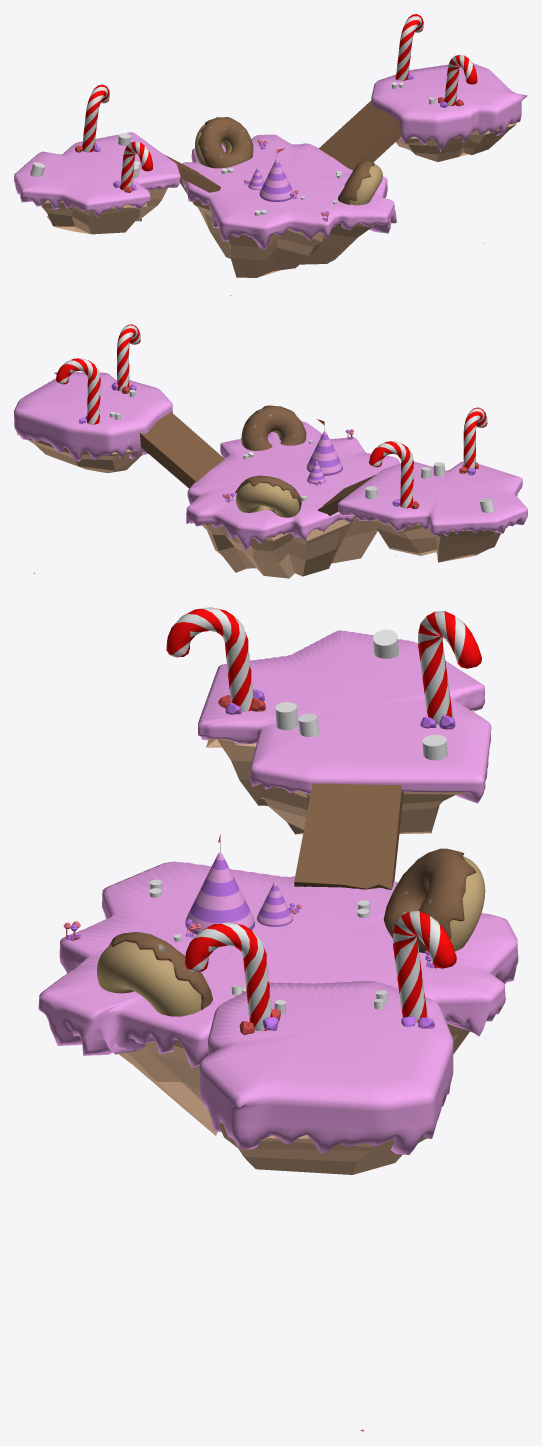
File: SugarIsland_04_07_24.glb
3 renders of one model, top to bottom at view 1: azimuth 30°, elevation 25°; view 2: azimuth 150°, elevation 25°; view 3: azimuth 270°, elevation 25°, orthographic. The views are drawn at different scales.
Parts seen in each view (by area): view 1: Icing.Middle, Icing.Right, Icing.Left, Land.Middle, Canes, Choco.Bridge.Right, Land.Left, Torus.002, Land.Right, Torus.004, Cone.B, Choco.Bridge.Left; view 2: Icing.Middle, Icing.Left, Icing.Right, Land.Middle, Canes, Choco.Bridge.Right, Land.Left, Torus.004, Torus.002, Land.Right, Cone.B, Choco.Bridge.Left; view 3: Icing.Middle, Icing.Right, Icing.Left, Canes, Choco.Bridge.Left, Torus.002, Torus.004, Land.Left, Land.Right, Land.Middle, Cone.B, Cone.s.
Boxes of the visible parts, x1,y1,x2,y2 form: Icing.Middle: (182, 134, 396, 249); Icing.Right: (371, 63, 527, 151); Icing.Left: (14, 132, 180, 217); Land.Middle: (180, 178, 374, 277); Canes: (82, 14, 477, 190); Choco.Bridge.Right: (318, 100, 401, 170); Land.Left: (41, 187, 167, 234); Torus.002: (195, 117, 253, 168); Land.Right: (395, 122, 516, 161); Torus.004: (338, 160, 382, 205); Cone.B: (259, 159, 293, 201); Choco.Bridge.Left: (164, 154, 220, 192); Icing.Middle: (186, 421, 400, 550); Icing.Left: (338, 461, 527, 536); Icing.Right: (14, 372, 172, 461); Land.Middle: (202, 515, 377, 578); Canes: (56, 324, 487, 508); Choco.Bridge.Right: (139, 412, 224, 488); Land.Left: (368, 520, 508, 562); Torus.004: (241, 405, 306, 450); Torus.002: (235, 475, 301, 517); Land.Right: (28, 438, 143, 473); Cone.B: (306, 431, 342, 475); Choco.Bridge.Left: (317, 475, 375, 515); Icing.Middle: (38, 861, 518, 1067); Icing.Right: (199, 980, 453, 1154); Icing.Left: (198, 630, 491, 803); Canes: (166, 607, 481, 1031); Choco.Bridge.Left: (294, 783, 403, 889); Torus.002: (383, 848, 485, 953); Torus.004: (97, 932, 212, 1016); Land.Left: (206, 710, 473, 834); Land.Right: (219, 1123, 426, 1174); Land.Middle: (119, 1023, 469, 1135); Cone.B: (185, 852, 254, 934); Cone.s: (256, 882, 292, 926).
Size of the model in its own units: 24.51 by 11.27 by 10.91.
Materials: 24 (16 with a texture image).
